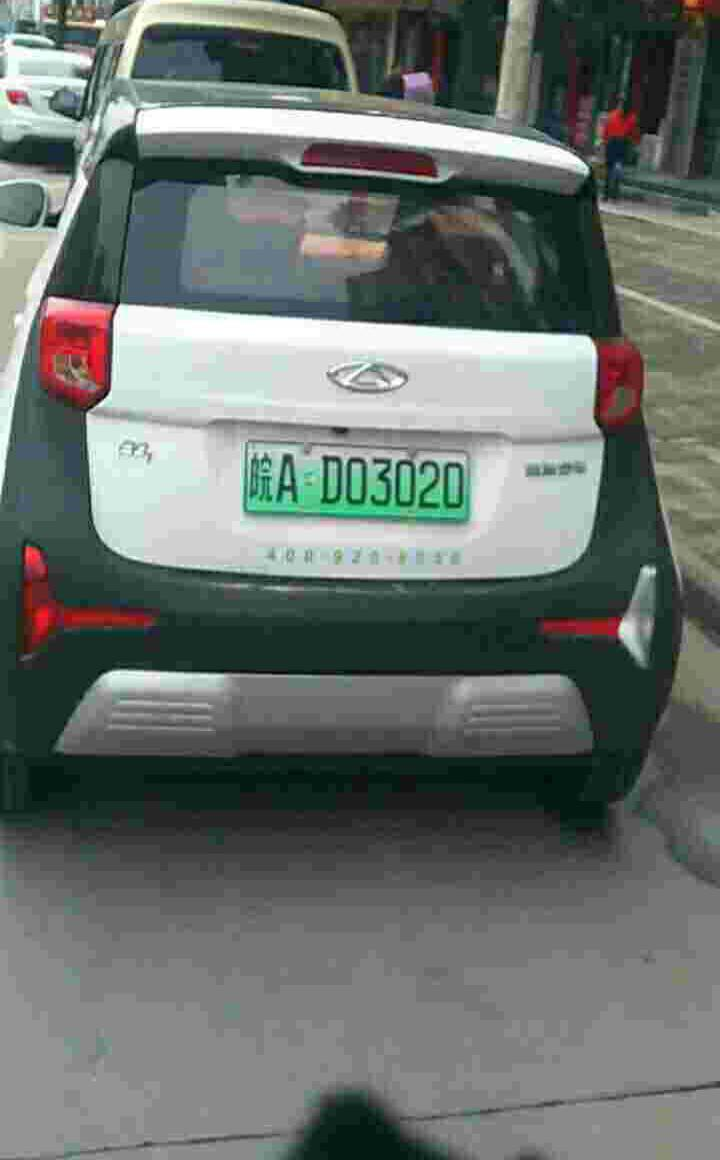car_green: (244, 435, 475, 522)
